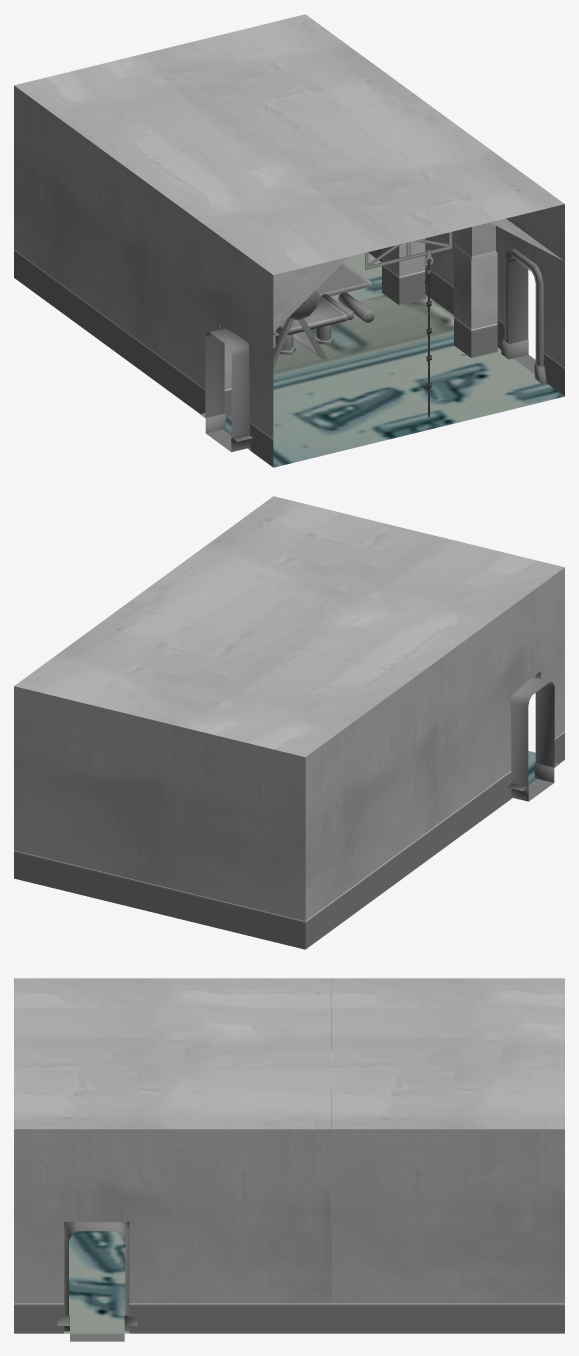
File: MSH_GYM_room_L2_R1_optimized.fbx
3 renders of one model, top to bottom at view 1: azimuth 30°, elevation 25°; view 2: azimuth 150°, elevation 25°; view 3: azimuth 270°, elevation 25°, orthographic. The views are drawn at different scales.
Visible parts, largest first — view 1: lightmap1, lightmap-1, lightmap0; view 2: lightmap1, lightmap-1; view 3: lightmap1, lightmap-1.
Part boxes in pixels (bbox=[...]): lightmap1: bbox=[14, 14, 564, 467]; lightmap-1: bbox=[205, 258, 535, 452]; lightmap0: bbox=[273, 232, 452, 417]; lightmap1: bbox=[14, 496, 564, 949]; lightmap-1: bbox=[511, 677, 554, 801]; lightmap1: bbox=[14, 978, 564, 1333]; lightmap-1: bbox=[69, 1222, 125, 1341].
Bounding box in the file's own units: 10.3 × 5.88 × 14.34.
